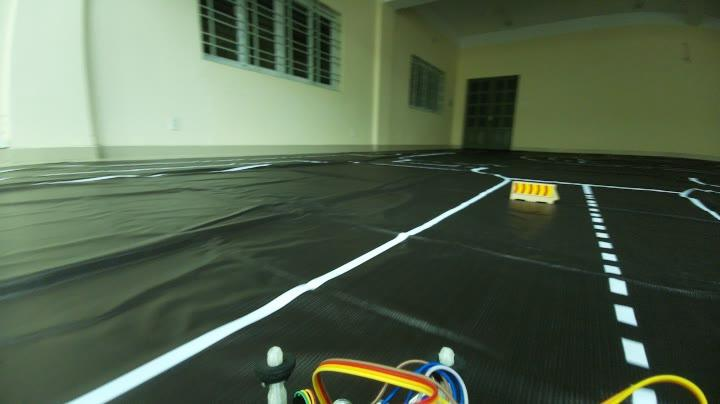roadblock: (508, 180, 560, 206)
